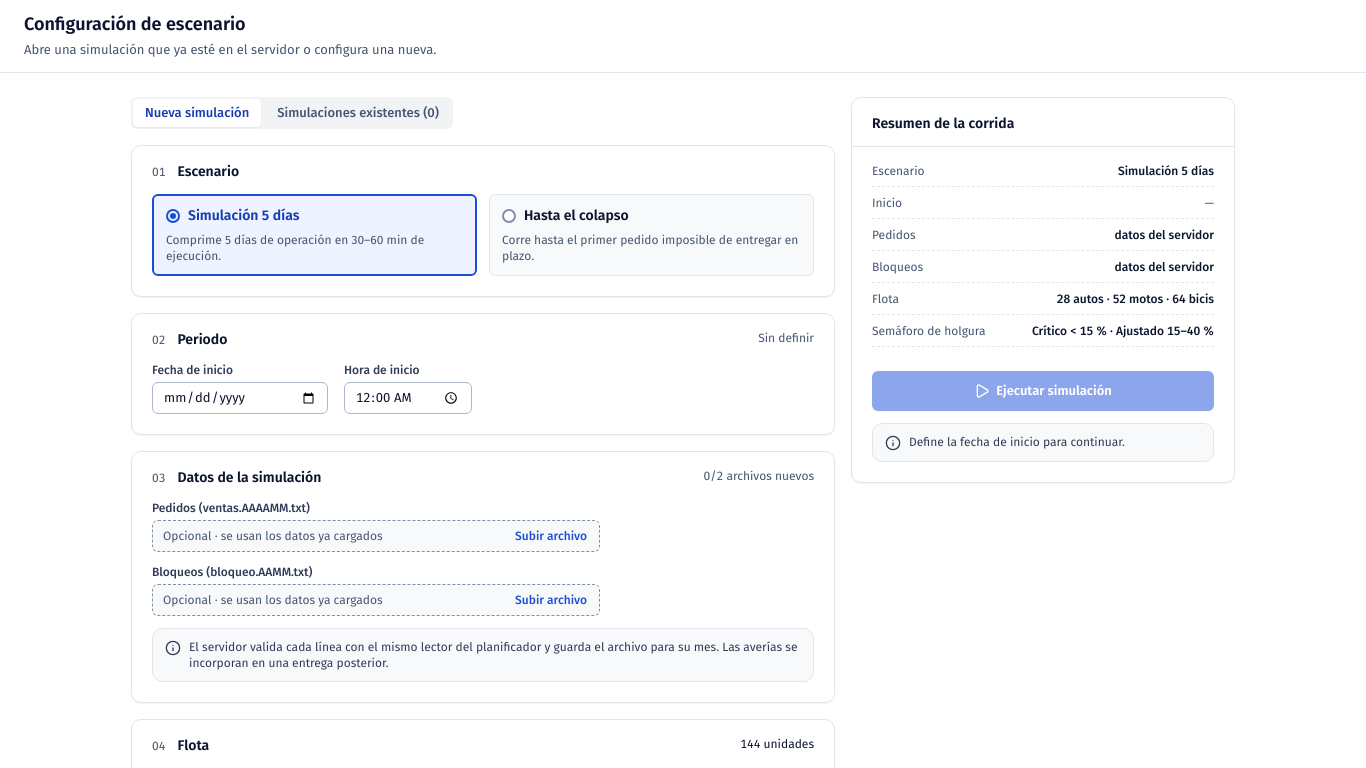
Test case: Rúbrica · carga de datos por GUI › G13 · una flota sin unidades no se acepta
In the date field labelled "Fecha de inicio": (240, 398) [152, 382, 328, 414], type "2026-03-03"
(page scrolled)
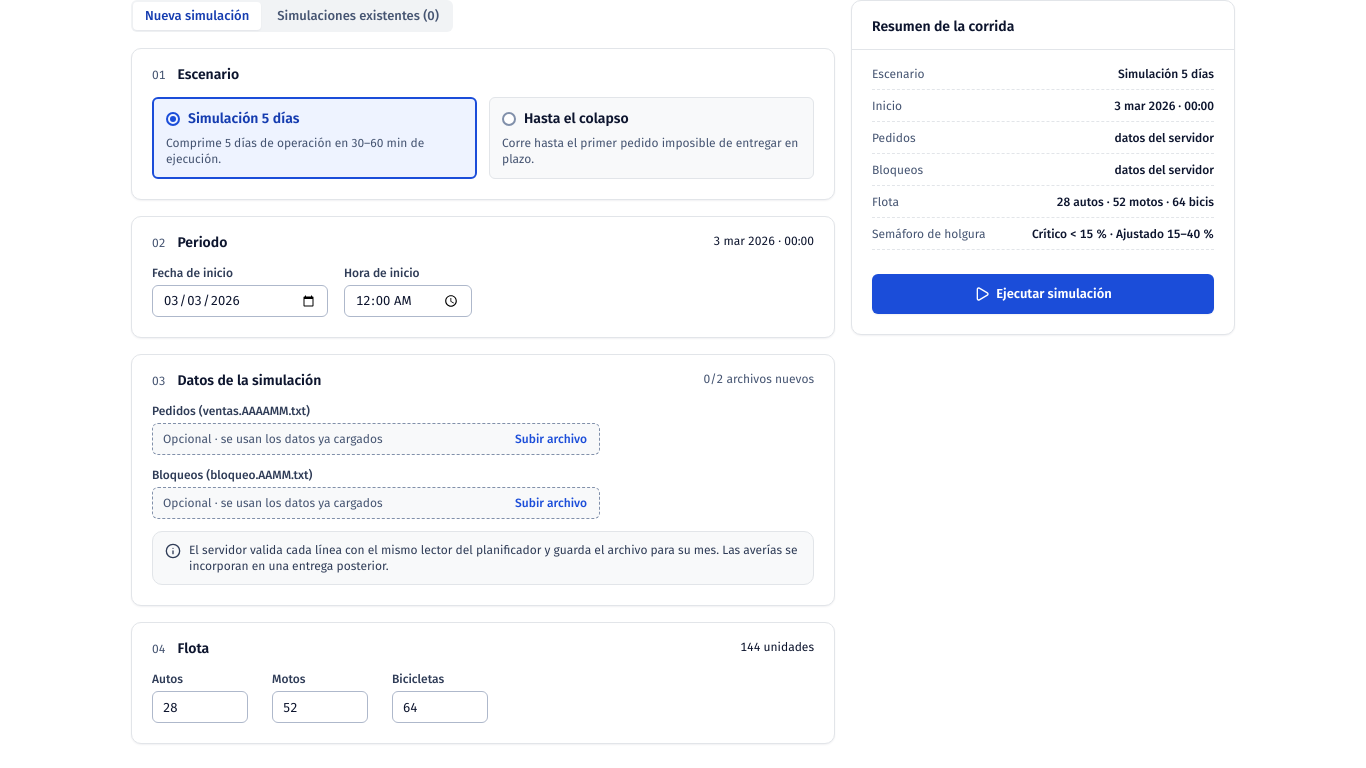
Replace the text in the field labelled "Autos" with "0": (200, 707) [152, 691, 248, 723]
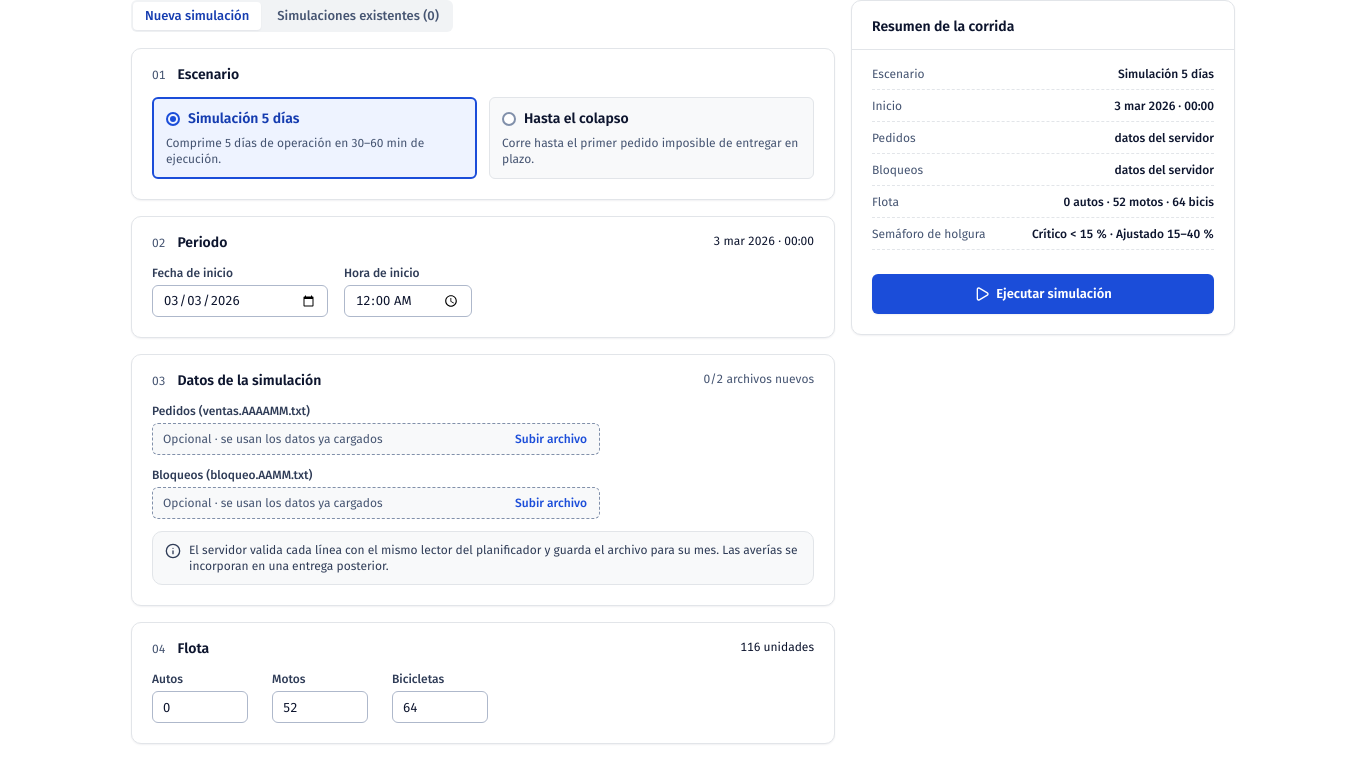
Replace the text in the field labelled "Motos" with "0": (320, 707) [272, 691, 368, 723]
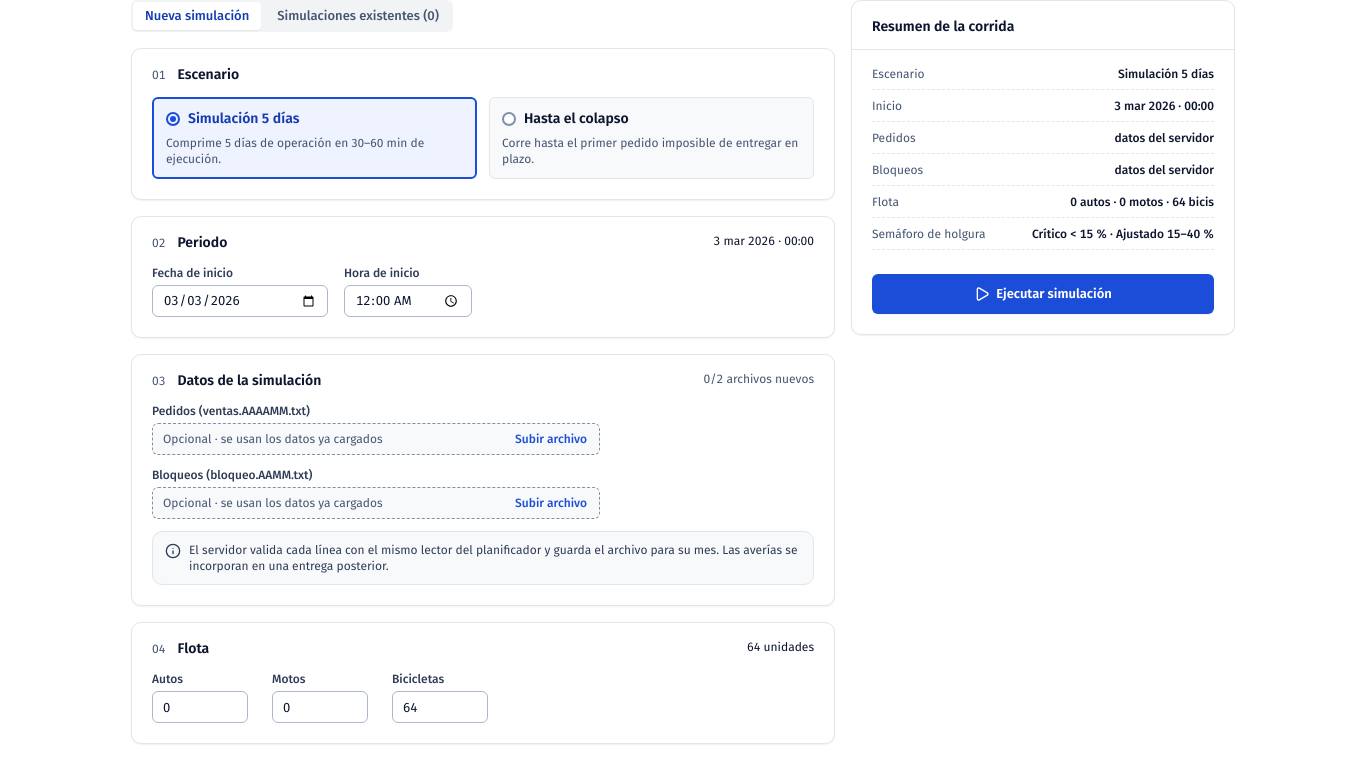
Replace the text in the field labelled "Bicicletas" with "0": (440, 707) [392, 691, 488, 723]
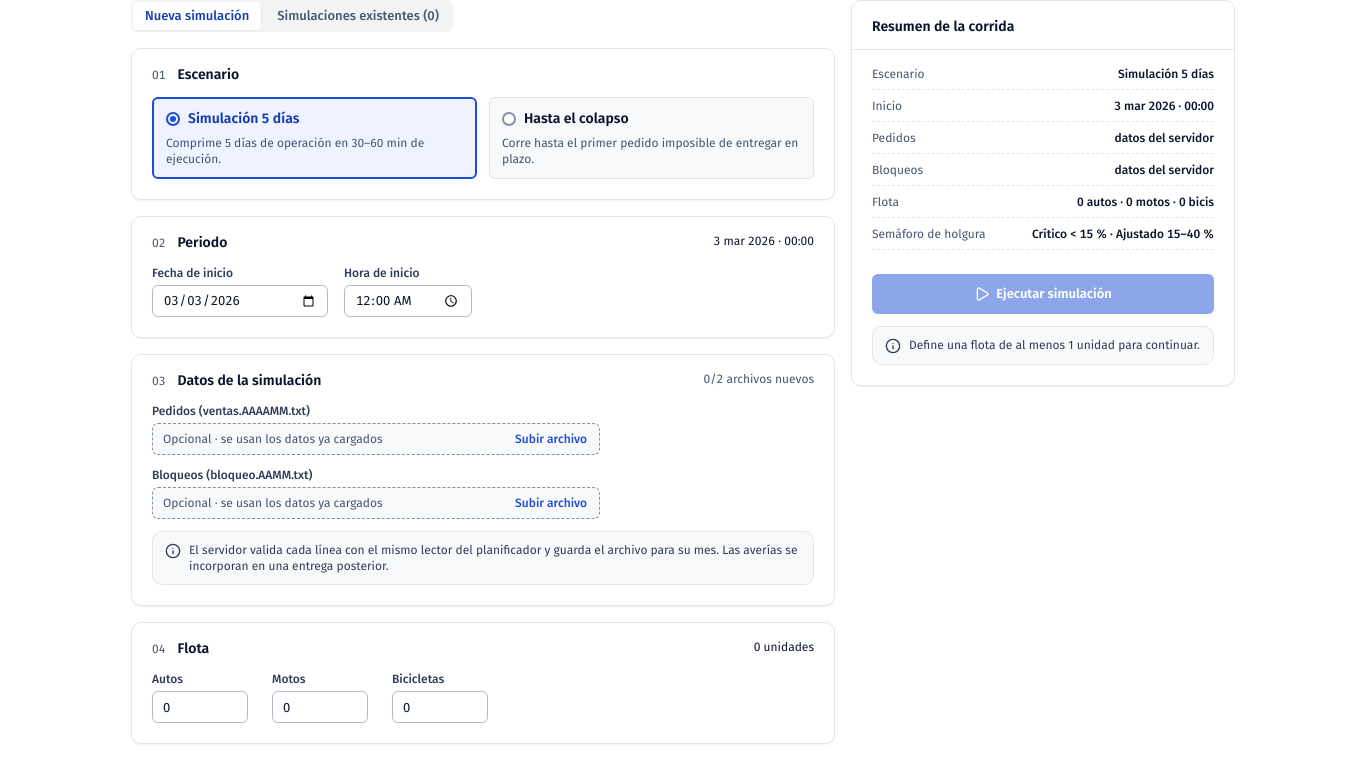
Expected: the button "Ejecutar simulación" is disabled, [872, 274, 1214, 314]
Expected: the text "Define una flota de al menos 1 unidad para continuar." is shown, [909, 337, 1201, 353]
